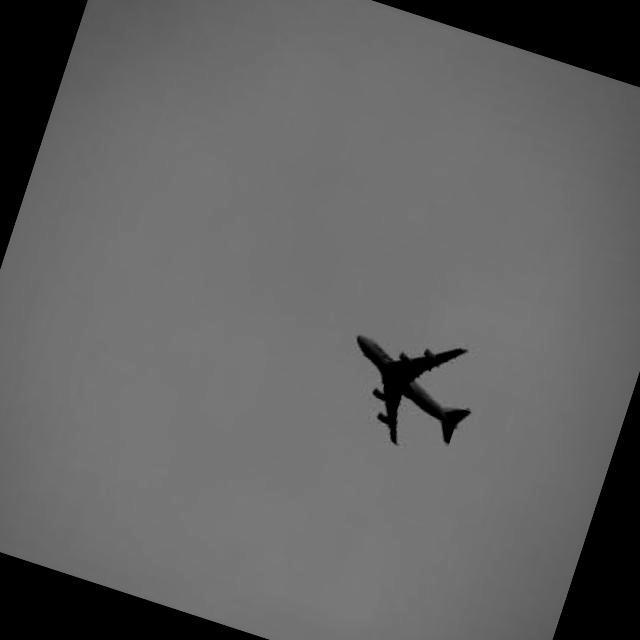aeroplane: (315, 306, 491, 469)
